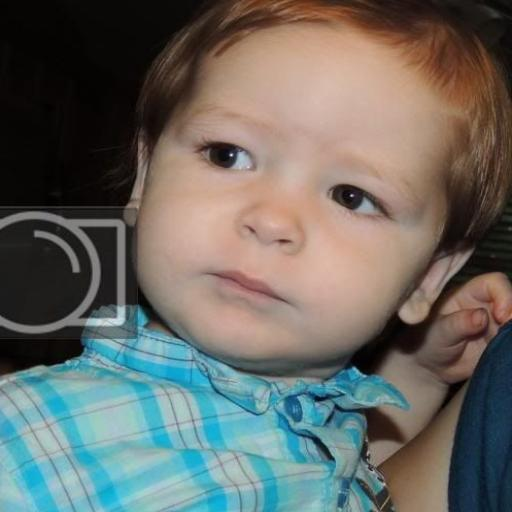Autism: (7, 9, 512, 467)
